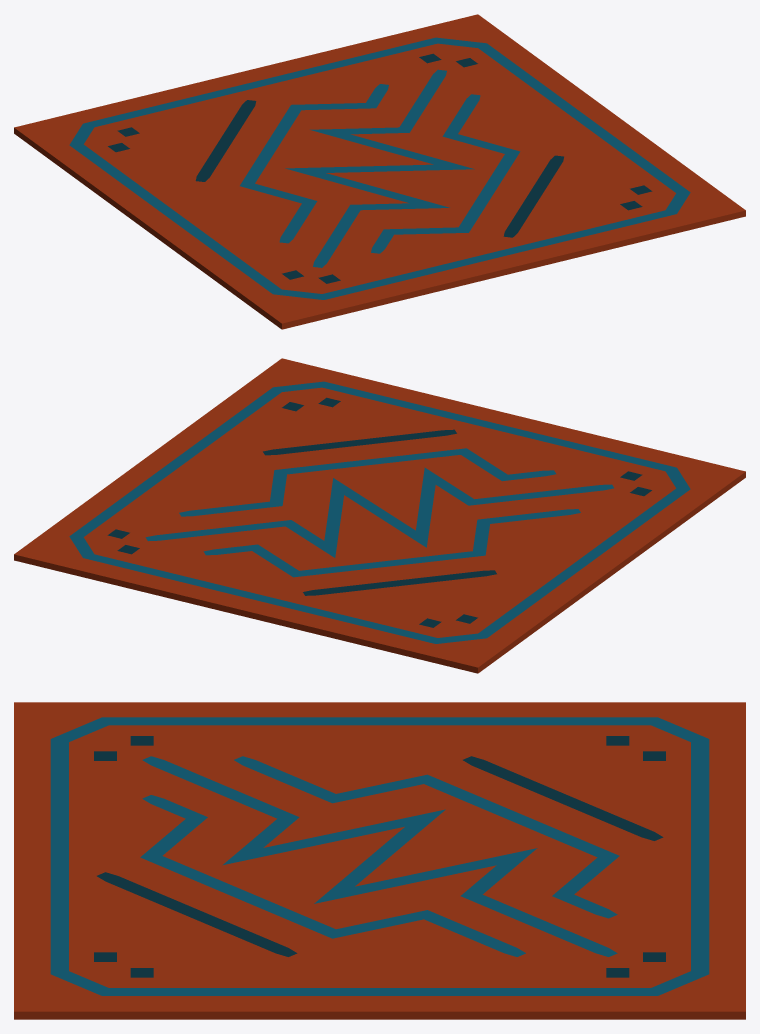
Rendered from Tile_2-2.fbx.
3 renders of one model, top to bottom at view 1: azimuth 30°, elevation 25°; view 2: azimuth 150°, elevation 25°; view 3: azimuth 270°, elevation 25°, orthographic. The views are drawn at different scales.
Parts seen in each view (by area): view 1: Tile_2-2; view 2: Tile_2-2; view 3: Tile_2-2.
Part boxes in pixels (x1,y1,x2,y2): Tile_2-2: (14,14,745,329); Tile_2-2: (14,358,745,673); Tile_2-2: (14,702,745,1019).
Bounding box in the file's own units: 4 × 4 × 0.051.
